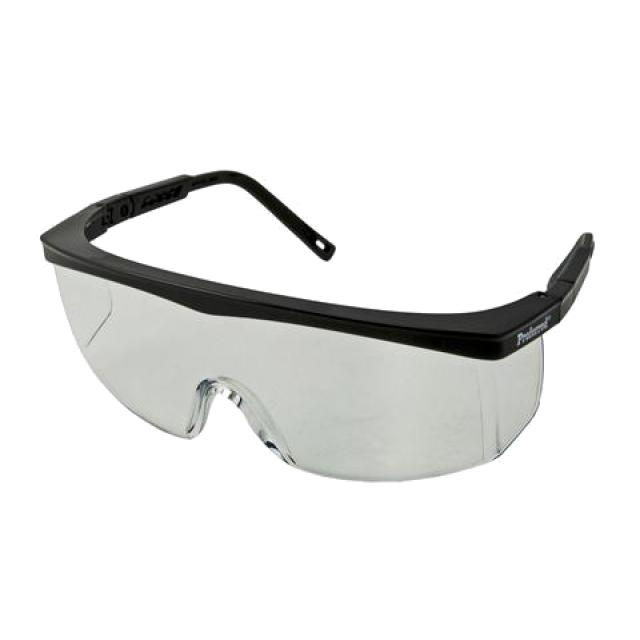Protective Glasses: (3, 94, 640, 555)
